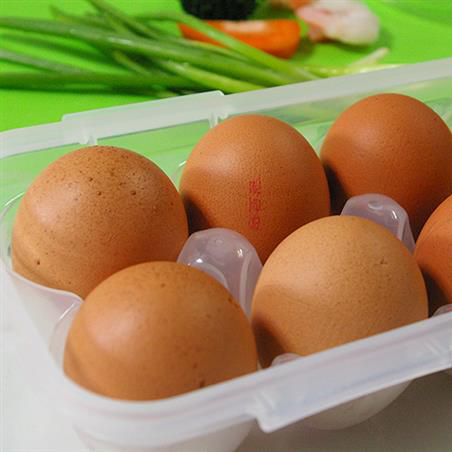egg: (11, 90, 452, 402)
